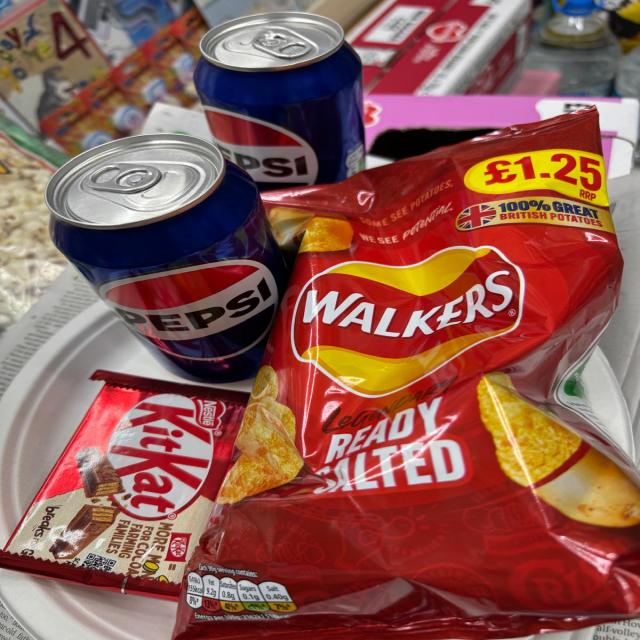crisp: (213, 108, 640, 640)
kitkat: (16, 372, 240, 604)
pepsi: (56, 120, 277, 378), (176, 4, 379, 214)
